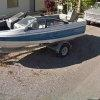Boat: (3, 2, 95, 66)
